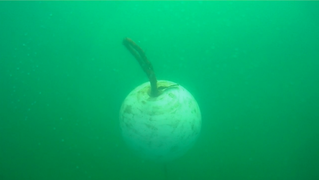buoy: (118, 79, 202, 165)
